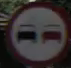No overtake: (9, 6, 65, 55)
